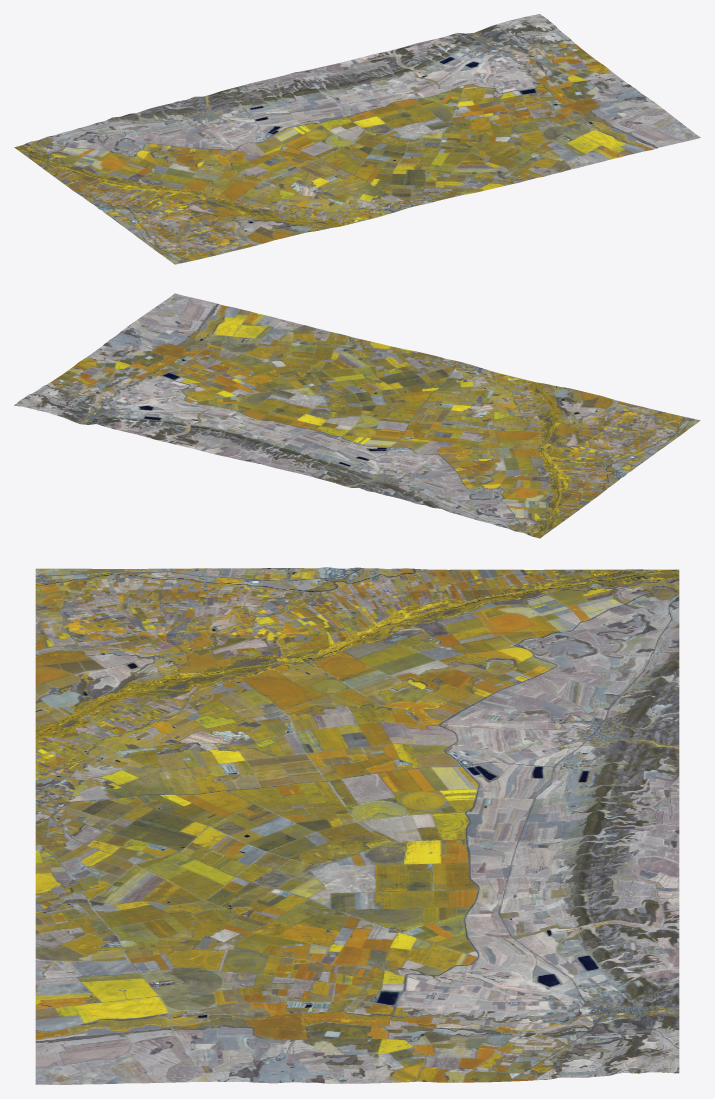
Rendered from futurAgra_01.obj.
3 renders of one model, top to bottom at view 1: azimuth 30°, elevation 25°; view 2: azimuth 150°, elevation 25°; view 3: azimuth 270°, elevation 25°, orthographic. The views are drawn at different scales.
Visible parts, largest first — view 1: futurA_MetElipResi; view 2: futurA_MetElipResi; view 3: futurA_MetElipResi.
Part boxes in pixels (bbox=[...]): futurA_MetElipResi: bbox=[14, 14, 700, 264]; futurA_MetElipResi: bbox=[14, 293, 700, 538]; futurA_MetElipResi: bbox=[35, 567, 679, 1084].
Size of the model in its own units: 31.3 by 0.5128 by 16.59.
1 material, 1 textured.
